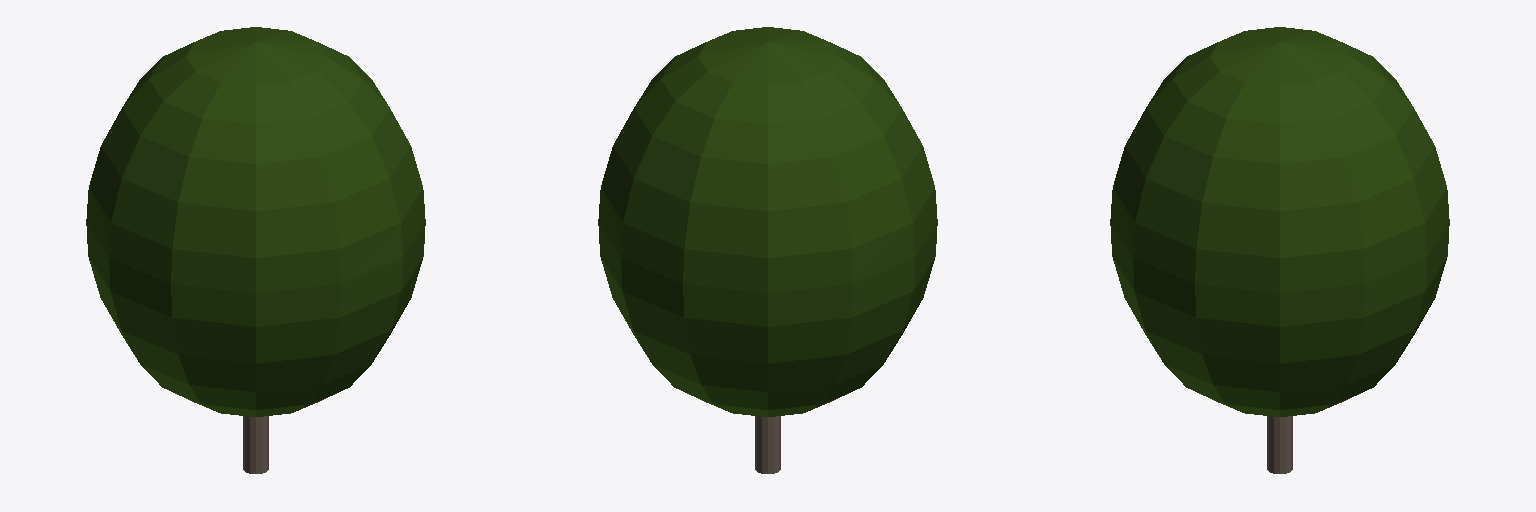
Rendered from Red_Hickory_Analytical_0.obj.
3 views of the same model, side by side, from view 1: azimuth 30°, elevation 25°; view 2: azimuth 150°, elevation 25°; view 3: azimuth 270°, elevation 25° (orthographic).
Visible parts, largest first — view 1: AnalyticalCrown, AnalyticalTrunk; view 2: AnalyticalCrown, AnalyticalTrunk; view 3: AnalyticalCrown, AnalyticalTrunk.
Boxes of the visible parts, box(x1,y1,x2,y2) form: AnalyticalCrown: box(86, 27, 425, 416); AnalyticalTrunk: box(243, 416, 268, 473); AnalyticalCrown: box(598, 27, 937, 416); AnalyticalTrunk: box(755, 416, 780, 473); AnalyticalCrown: box(1110, 27, 1449, 416); AnalyticalTrunk: box(1267, 416, 1292, 473).
Size of the model in its own units: 18.04 by 25 by 18.04.